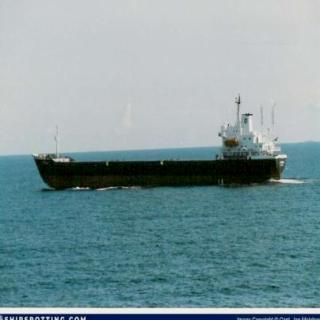Bulk Carrier: (28, 152, 282, 183)
